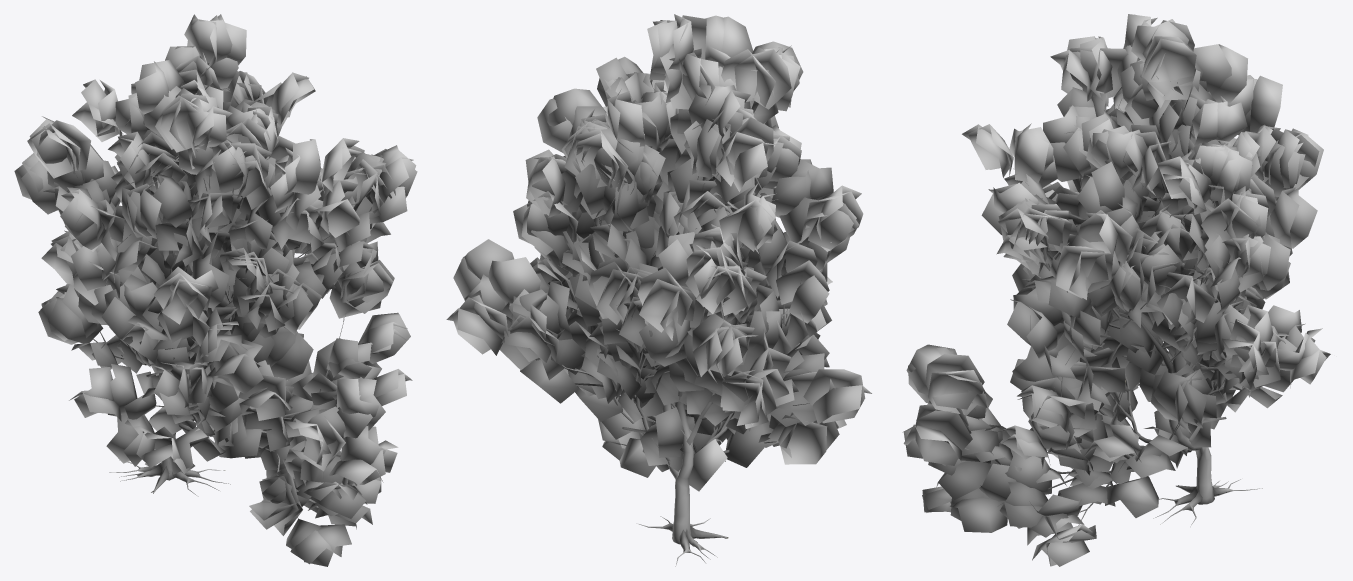
The model's file is SycamoreMiddleEastern_B.fbx.
The picture shows the model from 3 angles, left to right: view 1: azimuth 30°, elevation 25°; view 2: azimuth 150°, elevation 25°; view 3: azimuth 270°, elevation 25°; orthographic projection. The views are drawn at different scales.
Parts seen in each view (by area): view 1: SycamoreMiddleEastern_B_LOD0; view 2: SycamoreMiddleEastern_B_LOD0; view 3: SycamoreMiddleEastern_B_LOD0.
Boxes of the visible parts, bbox=[...] form: SycamoreMiddleEastern_B_LOD0: bbox=[14, 14, 417, 566]; SycamoreMiddleEastern_B_LOD0: bbox=[446, 14, 871, 566]; SycamoreMiddleEastern_B_LOD0: bbox=[902, 14, 1330, 566].
Bounding box in the file's own units: 1110 × 1532 × 1234.
